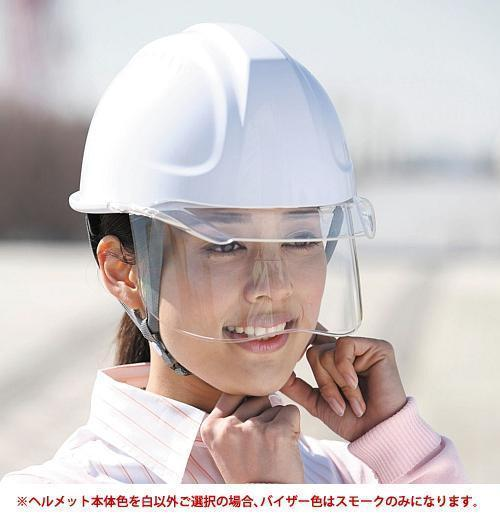helmet: (68, 22, 358, 255)
